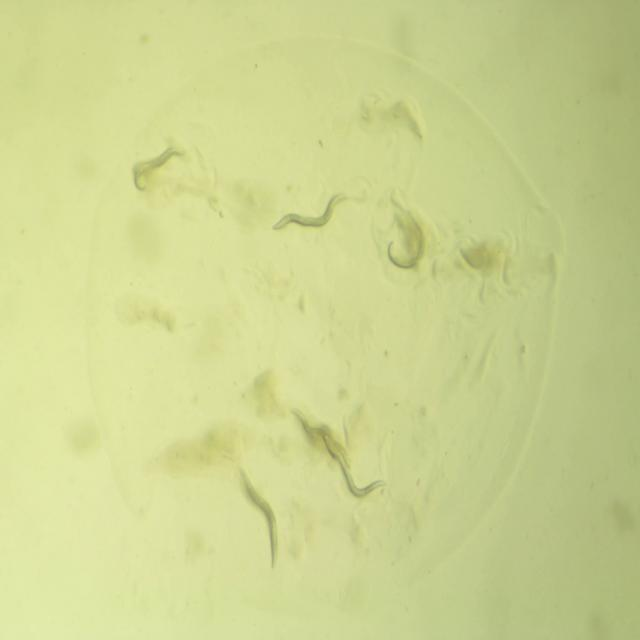worm: (229, 453, 288, 579), (264, 176, 354, 254), (318, 420, 395, 508), (372, 190, 432, 292), (114, 134, 194, 204), (286, 396, 353, 476)
